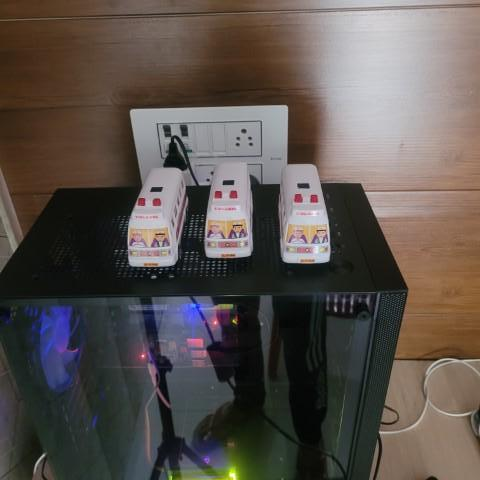ambulance: (123, 163, 192, 263), (272, 158, 333, 269), (205, 159, 255, 265)
